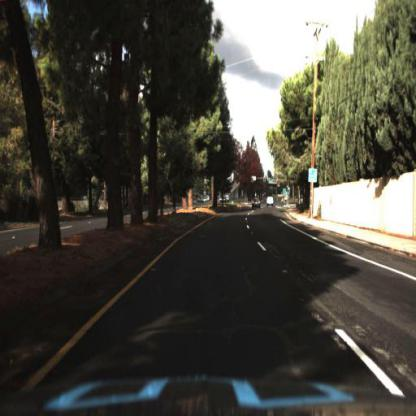car: (263, 190, 274, 207)
trafficLight: (285, 182, 290, 192)
